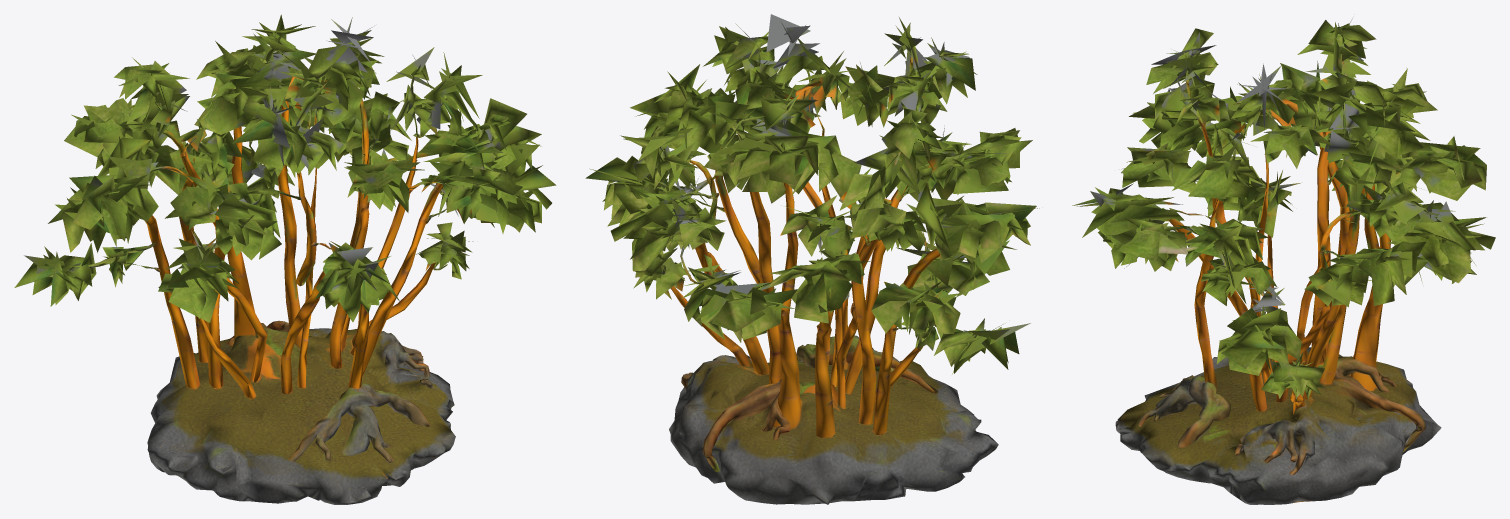
Rendered from KhomTreNga_ThanThanh.fbx.
The picture shows the model from 3 angles, left to right: view 1: azimuth 30°, elevation 25°; view 2: azimuth 150°, elevation 25°; view 3: azimuth 270°, elevation 25°; orthographic projection. The views are drawn at different scales.
Parts seen in each view (by area): view 1: Mesh_0; view 2: Mesh_0; view 3: Mesh_0.
Part boxes in pixels (x1=…): Mesh_0: x1=14, y1=14, x2=556, y2=504; Mesh_0: x1=585, y1=14, x2=1039, y2=504; Mesh_0: x1=1072, y1=18, x2=1495, y2=504.
Bounding box in the file's own units: 94.82 × 79.44 × 77.
Materials: 1 (1 with a texture image).
